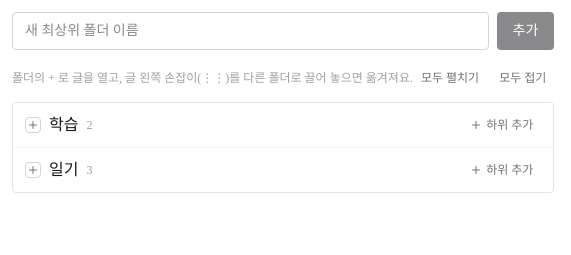
PostMover (글 이동 탭) › 폴더 추가 › 목록 위 입력창으로 최상위 폴더를 추가하면 요청이 가고, 새 폴더가 목록에 나타난다
Check: the text "학습" is shown, box [49,113,78,137]
Step 1. Type "  이직  " into the field labelled "새 최상위 폴더 이름" → (250, 31), box [12,12,488,50]
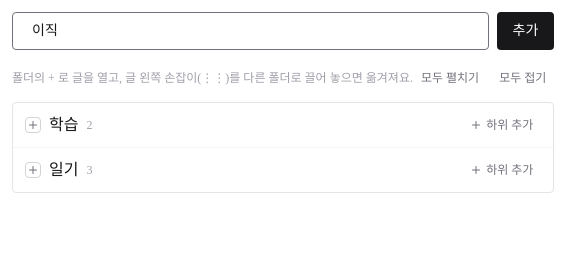
Step 2. Click the button "추가" → (525, 31), box [496,12,554,50]
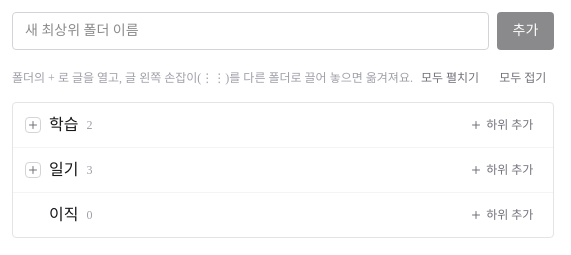
Check: the text "이직" is shown, box [49,203,78,227]
Check: the field labelled "새 최상위 폴더 이름" is empty, box [12,12,488,50]
